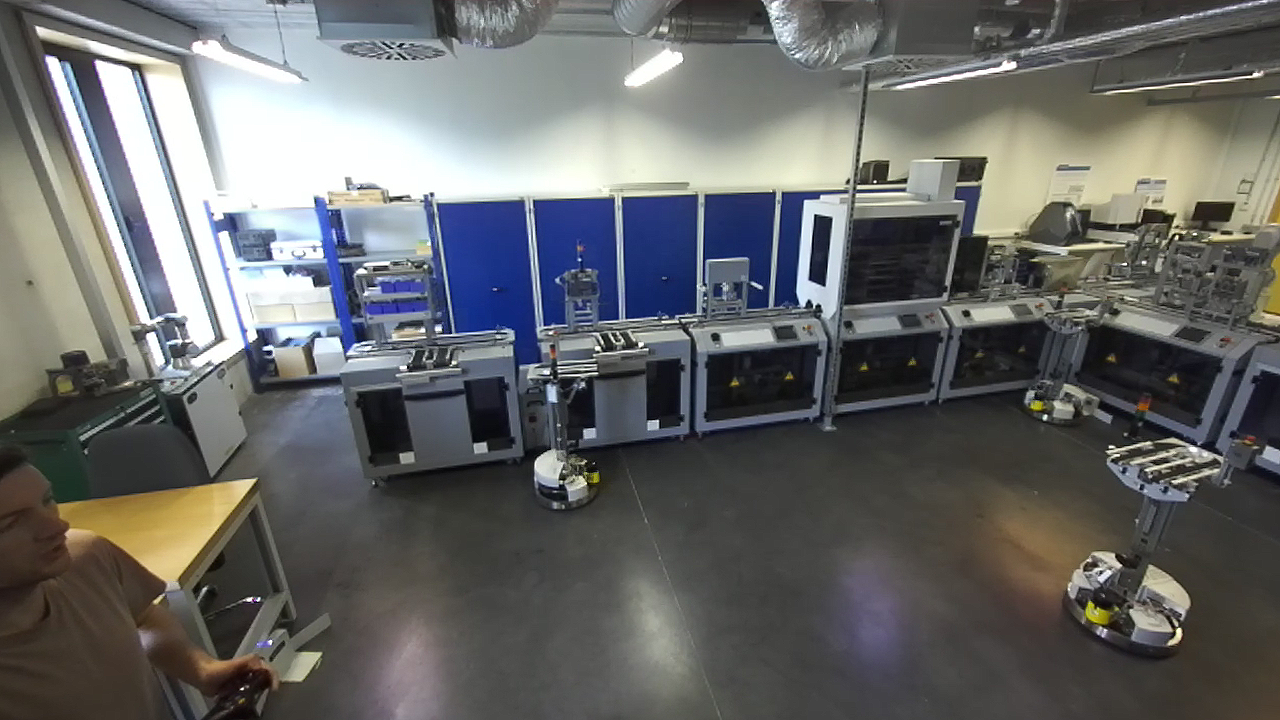AMR: (1063, 393, 1258, 667), (522, 329, 607, 510), (1027, 275, 1115, 426)
Human: (0, 441, 280, 717)
